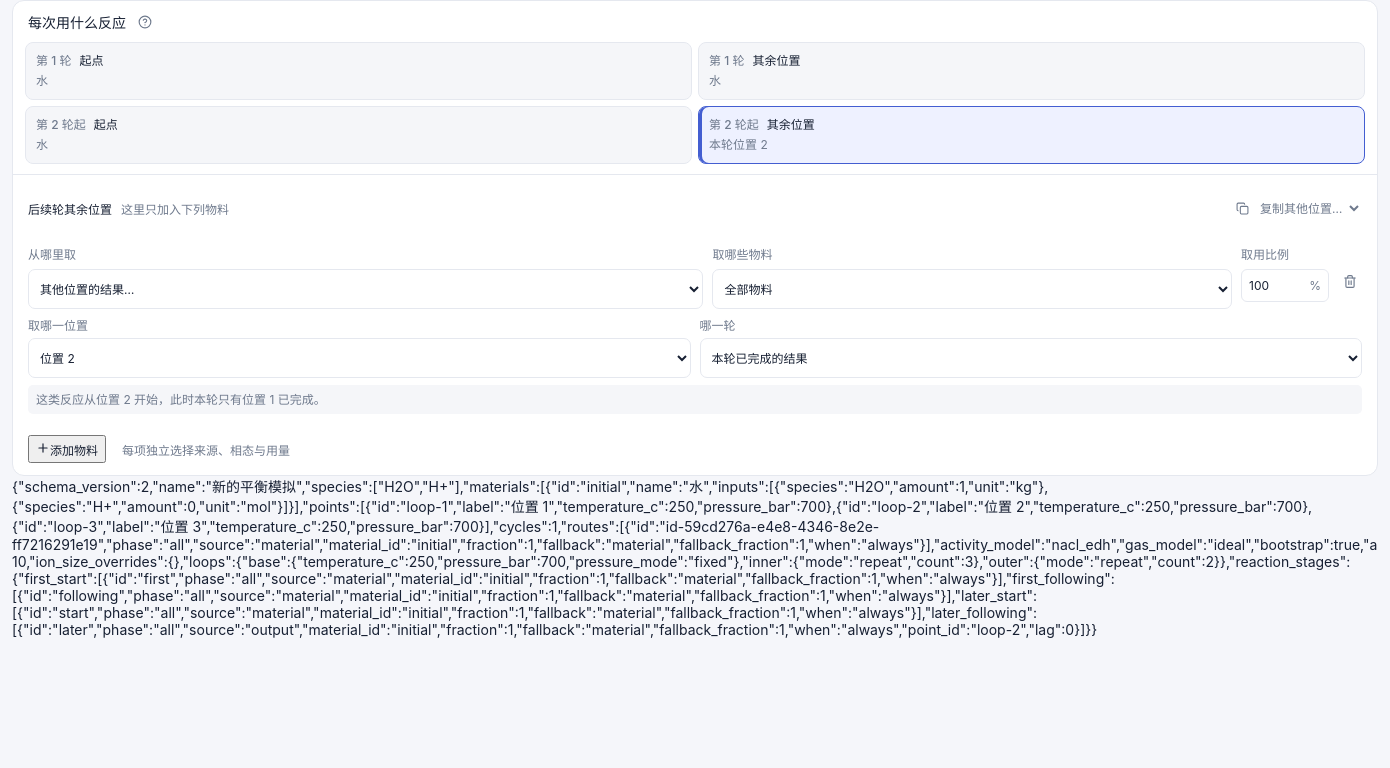
Test case: only existing reaction results are offered as new sources › preserves an invalid imported point through unrelated edits and explains how to repair it
Check: the dropdown named "物料 1 来源位置" shows "位置 2", box [28, 338, 690, 378]
Check: the text "这类反应从位置 2 开始，此时本轮只有位置 1 已完成。" is shown, box [28, 385, 1362, 414]
Select "水相" in the dropdown named "物料 1 相态". click: (972,289)
box: [712, 269, 1232, 309]
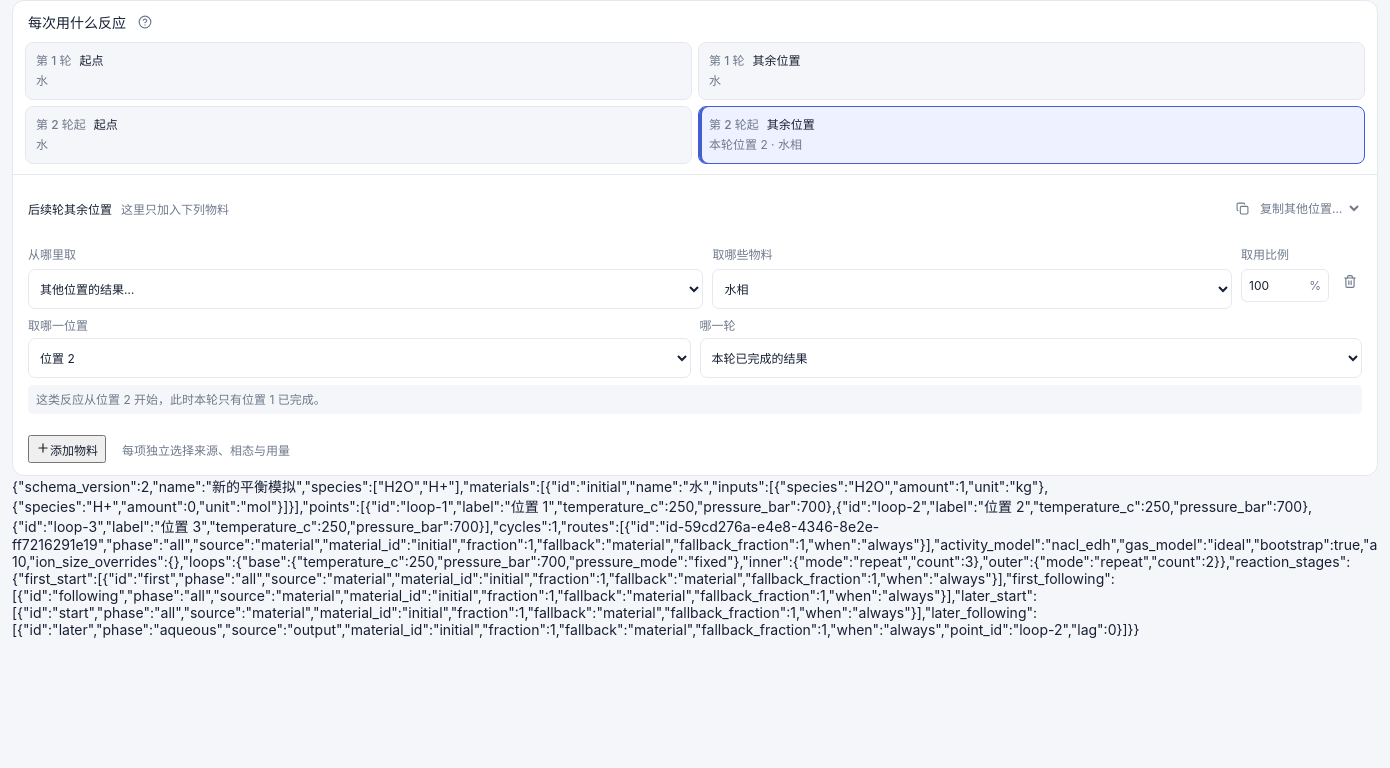
Select "上一轮的结果" in the dropdown named "物料 1 来源轮次". click: (1031,358)
box: [700, 338, 1362, 378]
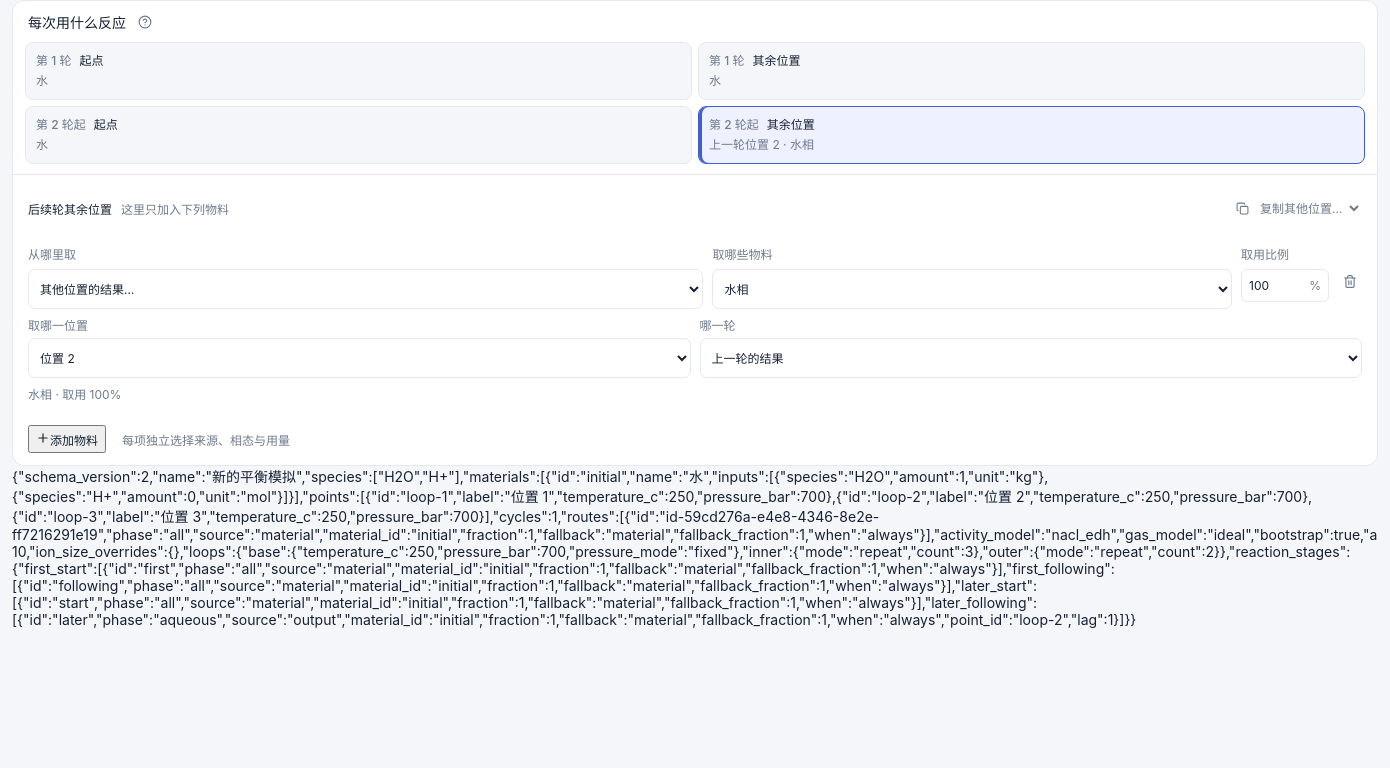
Check: the text "这类反应从位置 2 开始，此时本轮只有位置 1 已完成。" is gone
